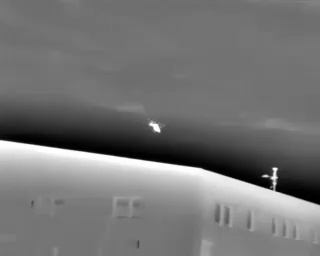HELICOPTER: (145, 116, 171, 139)
